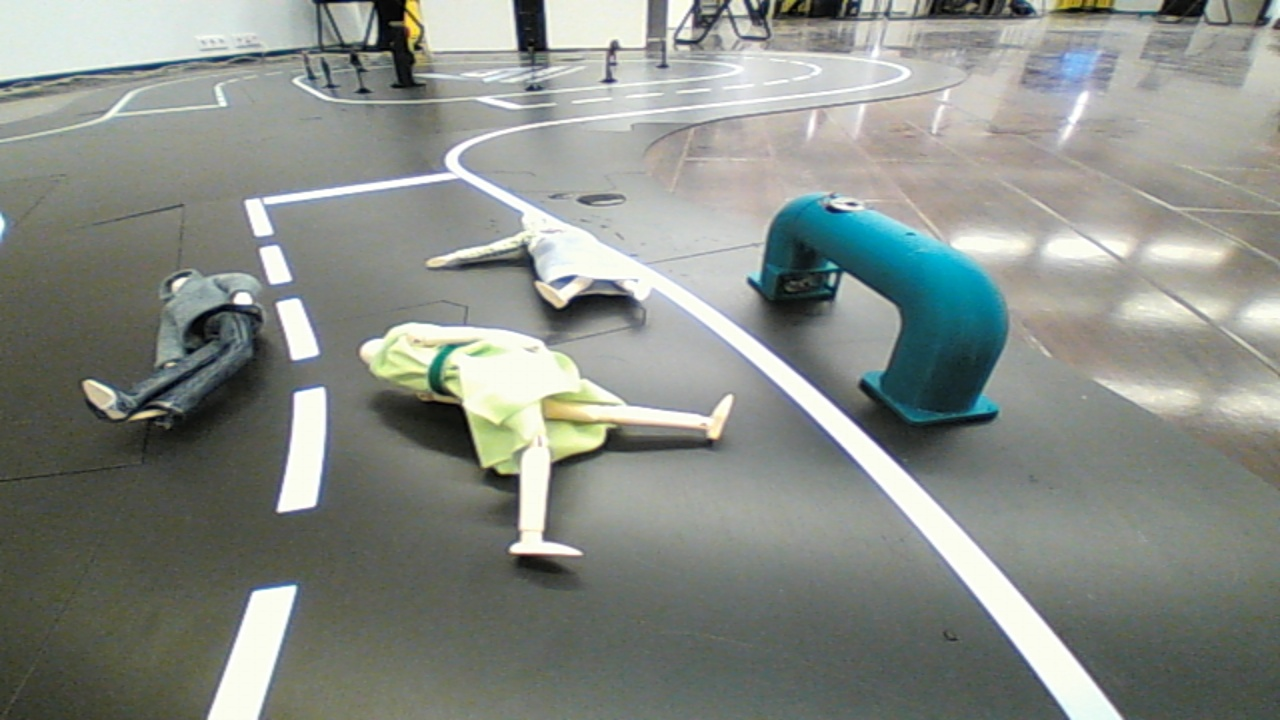Pedestrian crossing: (750, 174, 1021, 443)
Road works: (343, 317, 748, 577), (46, 260, 289, 443), (399, 195, 663, 315)
